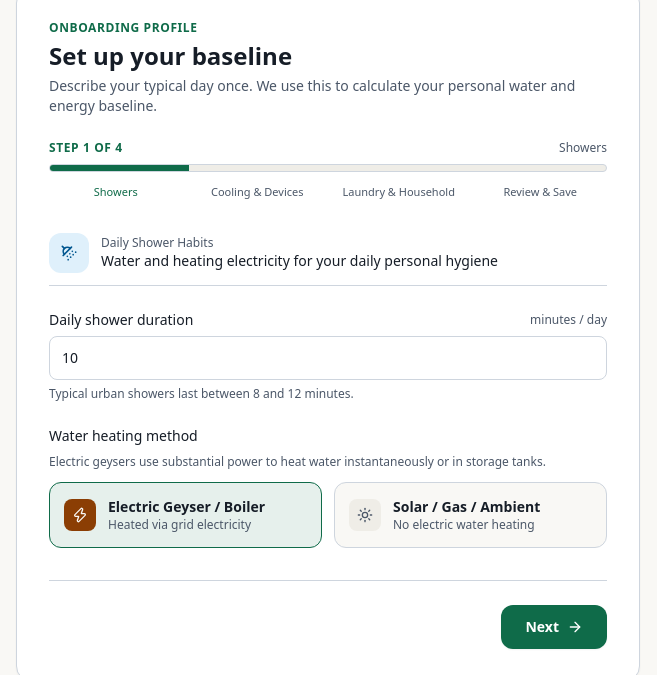
Test: Onboarding Wizard Component › VALIDATION error from server routes user to the step with the invalid field
The image size is (657, 675).
# Go to step 4
Step 1. Click the button "Next" → (554, 626), box [502, 604, 607, 648]
(page scrolled)
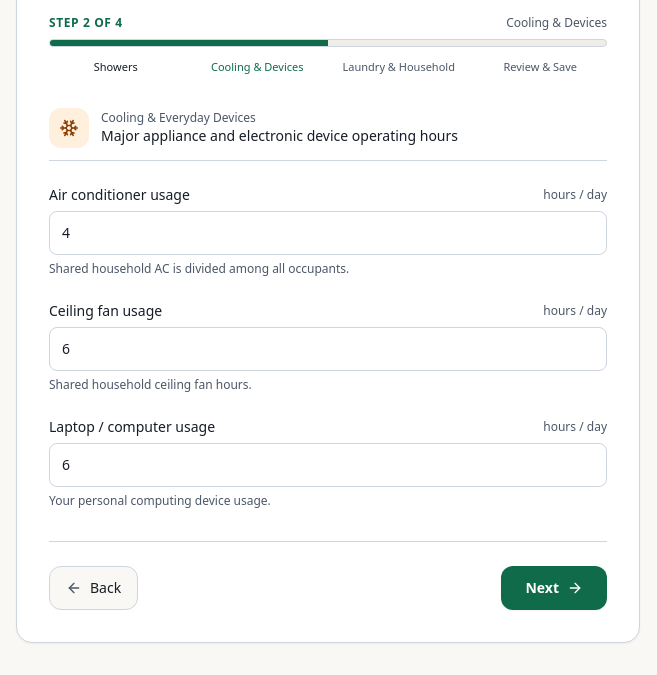
Step 2. Click the button "Next" → (554, 588), box [502, 566, 607, 610]
(page scrolled)
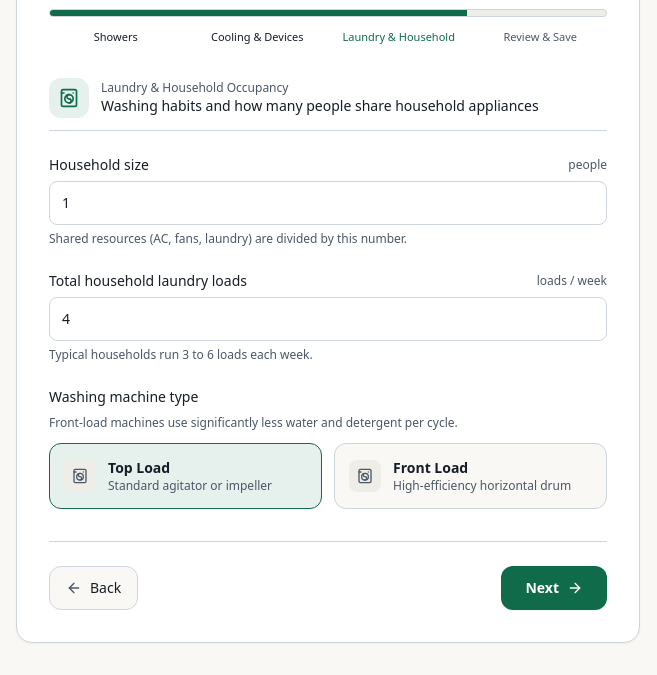
Step 3. Click the button "Next" → (554, 588), box [502, 566, 607, 610]
(page scrolled)
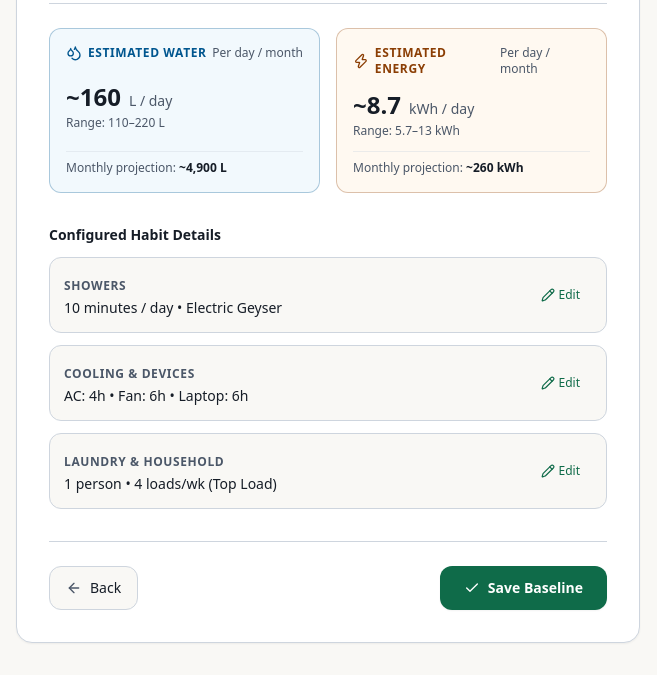
Step 4. Click the button "Save Baseline" → (523, 588), box [440, 566, 607, 610]
(page scrolled)
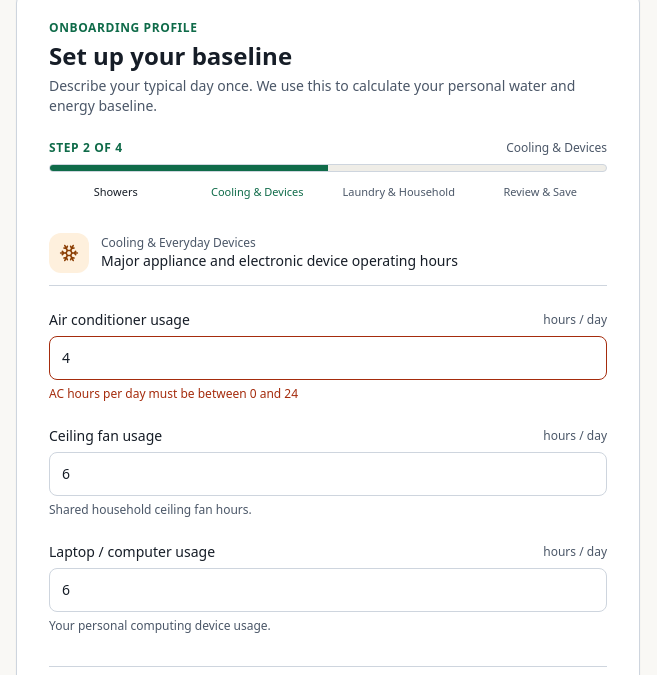
Result: the number field labelled "Air conditioner usage" is shown at [49, 336, 607, 380]
Result: the text "AC hours per day must be between 0 and 24" is shown at [49, 384, 298, 402]
